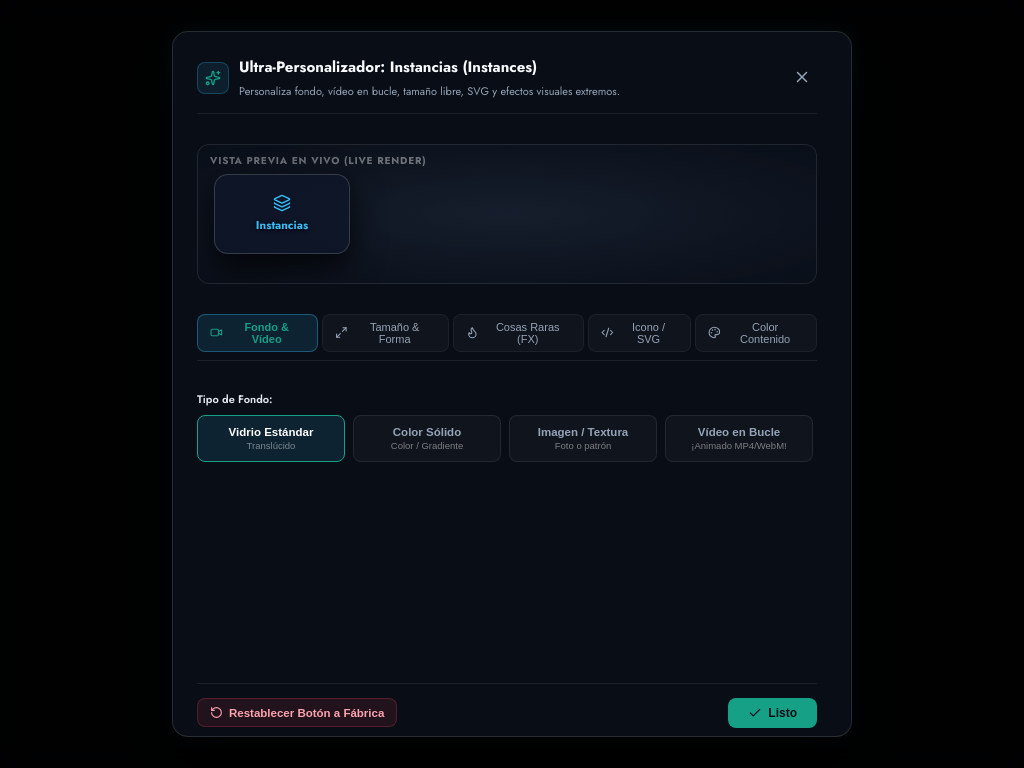
ButtonCustomizerModal & InstancesCreateTab Suite › ButtonCustomizerModal › muestra el botón de subir vídeo y campo de URL sin vídeos predefinidos en modo Vídeo
This screenshot has width=1024, height=768.
Click the button "Vídeo en Bucle ¡Animado MP4/WebM!": [739, 438] box [665, 415, 813, 462]
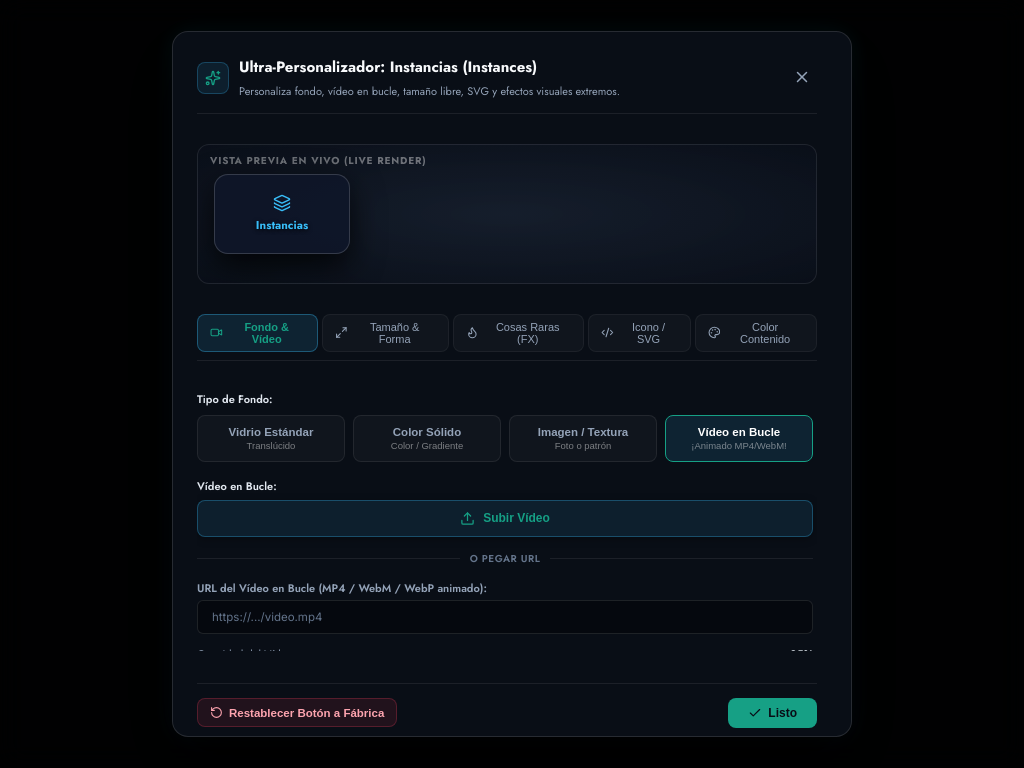
expect the button "Subir Vídeo" is shown: met, box [197, 500, 813, 537]
expect the field named "URL del vídeo de fondo" is shown: met, box [197, 600, 813, 634]
